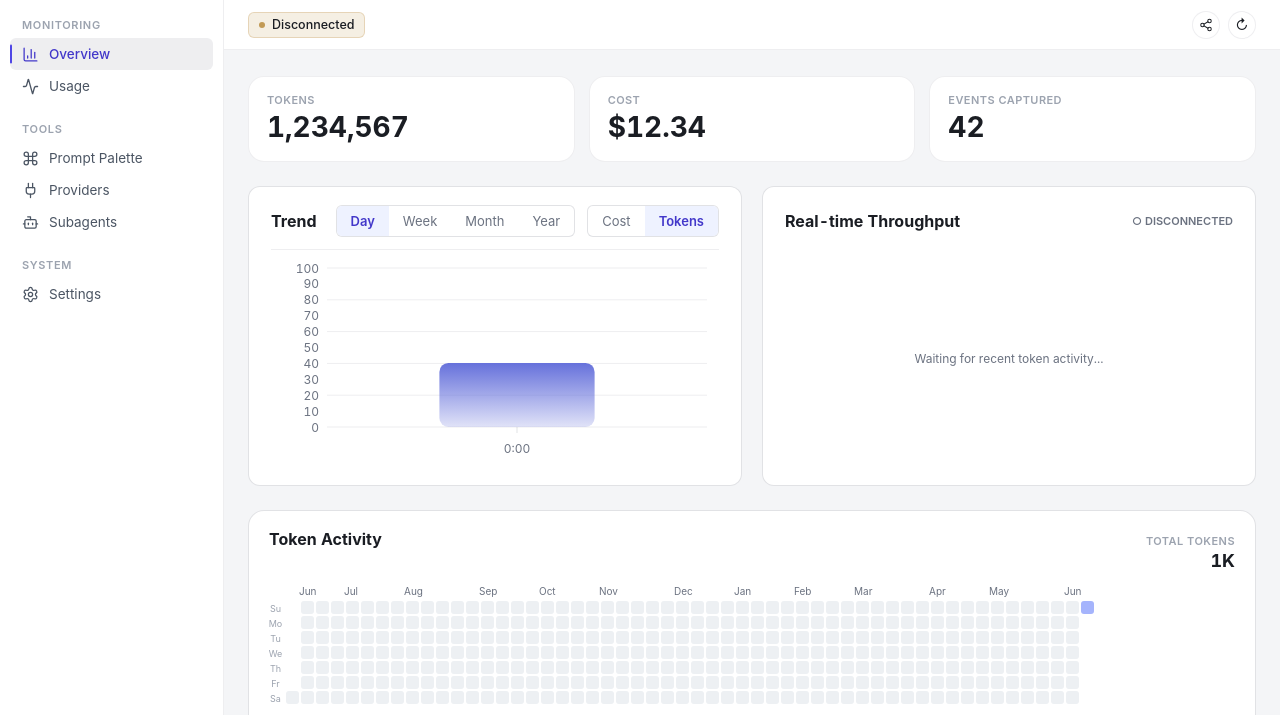
Test case: App › navigates to subagents page when Subagents sidebar item is clicked
Click the button "Subagents": point(112, 222) [10,206,213,238]
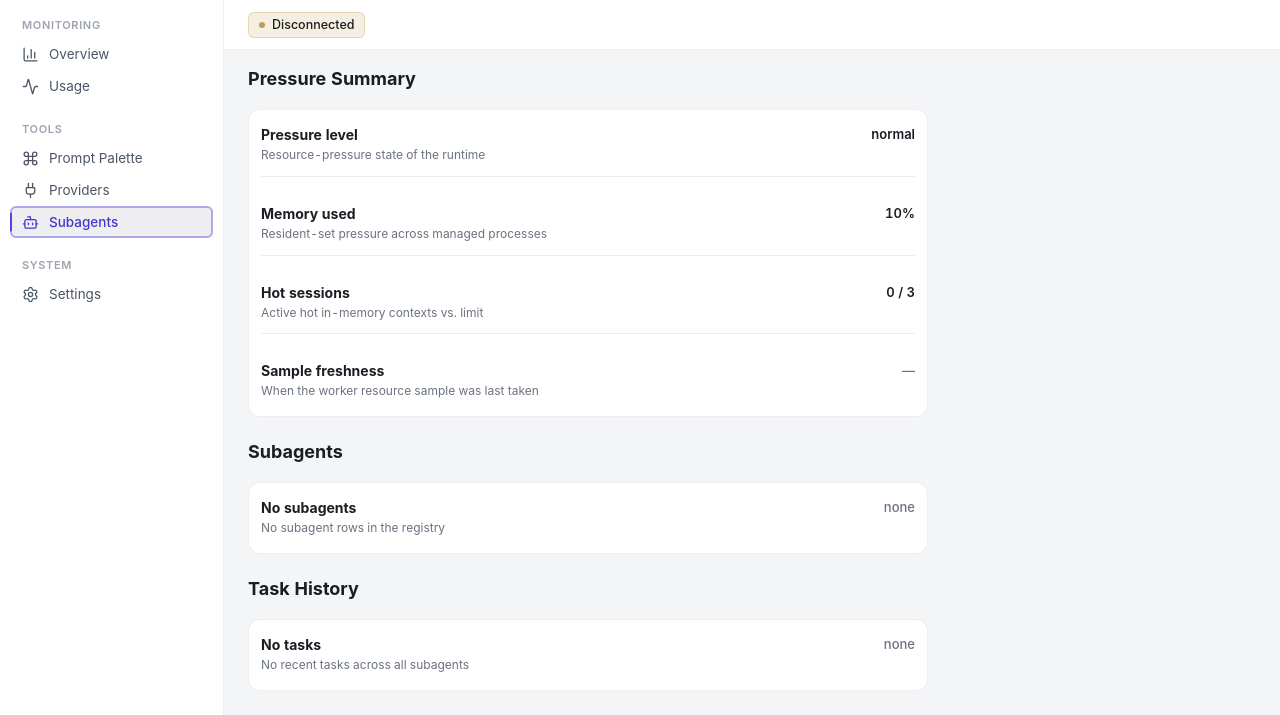
Result: the heading "Pressure Summary" is shown at [248,68,416,89]
